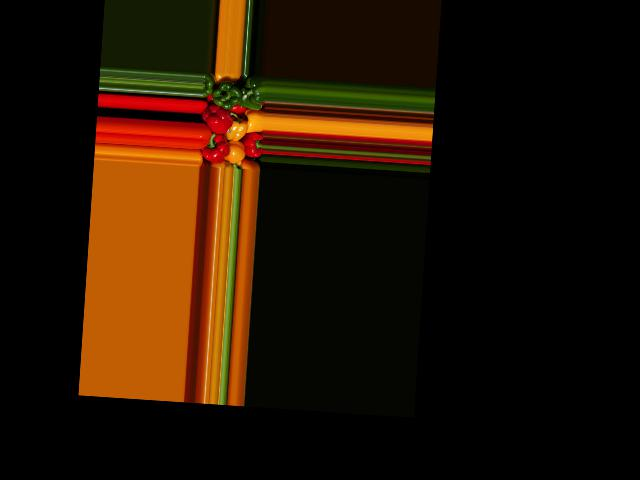bell_pepper: (201, 71, 218, 98)
